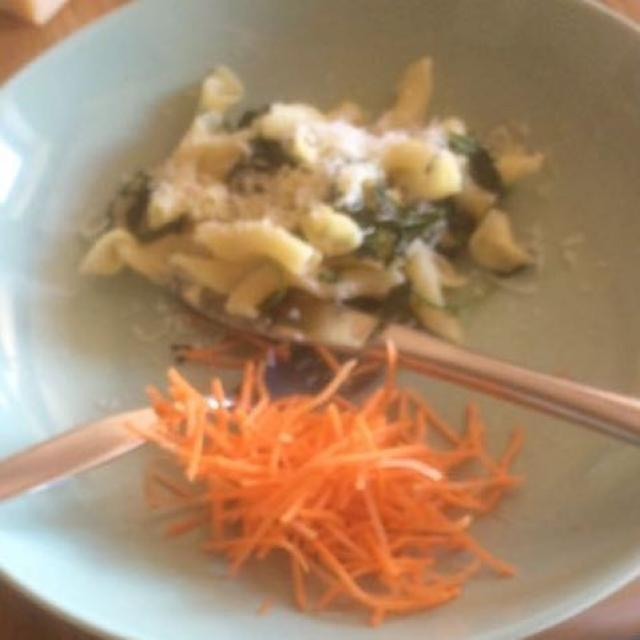carrot: (148, 357, 520, 619)
cheese: (132, 80, 434, 259)
pasta: (88, 67, 522, 335)
